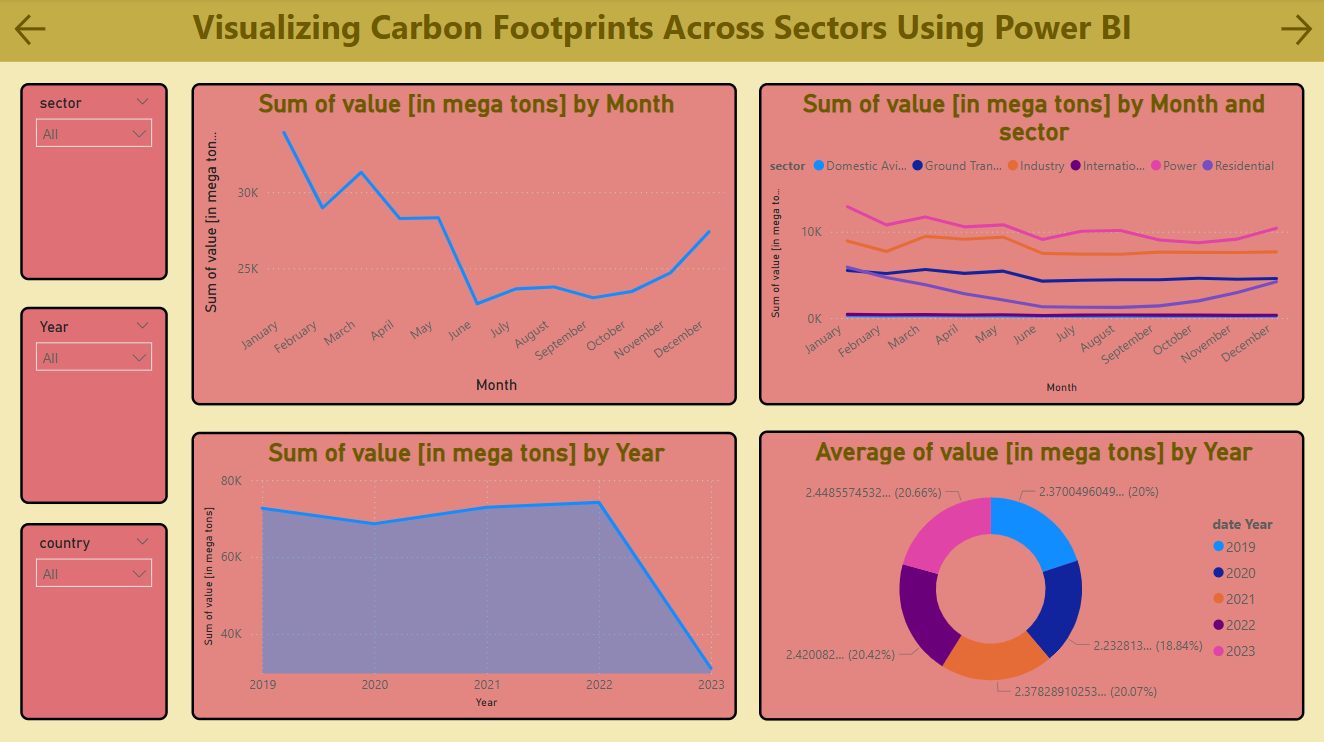

The dashboard page shown, as its layout file describes it:
{"tool":"powerbi","page":{"name":"Page 2","canvas":[1280,720],"ordinal":1},"visuals":[{"type":"textbox","box":[0,0,1280.3,61.7],"z":0},{"type":"lineChart","fields":{"Y":["Sum(80881fd3222431095135.value [in mega tons])"],"Category":["80881fd3222431095135.date.Variation.Date Hierarchy.Year","80881fd3222431095135.date.Variation.Date Hierarchy.Quarter","80881fd3222431095135.date.Variation.Date Hierarchy.Month","80881fd3222431095135.date.Variation.Date Hierarchy.Day"]},"box":[185.8,82,526,311.3],"z":1000},{"type":"slicer","fields":{"Values":["80881fd3222431095135.Year"]},"box":[20.5,298,142.4,190.6],"z":2000},{"type":"lineChart","fields":{"Y":["Sum(80881fd3222431095135.value [in mega tons])"],"Category":["80881fd3222431095135.date.Variation.Date Hierarchy.Year","80881fd3222431095135.date.Variation.Date Hierarchy.Quarter","80881fd3222431095135.date.Variation.Date Hierarchy.Month","80881fd3222431095135.date.Variation.Date Hierarchy.Day"],"Series":["80881fd3222431095135.sector"]},"box":[733.5,82,526,311.3],"z":3000},{"type":"slicer","fields":{"Values":["80881fd3222431095135.sector"]},"box":[20.5,82,142.4,190.6],"z":4000},{"type":"stackedAreaChart","fields":{"Category":["80881fd3222431095135.date.Variation.Date Hierarchy.Year","80881fd3222431095135.date.Variation.Date Hierarchy.Quarter","80881fd3222431095135.date.Variation.Date Hierarchy.Month","80881fd3222431095135.date.Variation.Date Hierarchy.Day"],"Y":["Sum(80881fd3222431095135.value [in mega tons])"]},"box":[185.8,418.6,526,278.7],"z":5000},{"type":"slicer","fields":{"Values":["80881fd3222431095135.country"]},"box":[20.5,506.7,142.4,190.6],"z":6000},{"type":"donutChart","fields":{"Y":["Avg(80881fd3222431095135.value [in mega tons])"],"Category":["80881fd3222431095135.date.Variation.Date Hierarchy.Year"]},"box":[733.5,417.4,526,279.9],"z":7000},{"type":"actionButton","box":[10.9,10.9,42.2,39.8],"z":8000},{"type":"actionButton","box":[1231.8,10.9,39.8,39.8],"z":9000}]}

Visuals, with their boxes in screenshot pixels (x1, y1, x2, y2), scaled from the page's 1280x720 canvas onto the 1324x742 screenshot:
textbox: {"left": 0, "top": 0, "right": 1323, "bottom": 64}
lineChart - Sum(80881fd3222431095135.value [in mega tons]) x 80881fd3222431095135.date.Variation.Date Hierarchy.Year: {"left": 192, "top": 85, "right": 736, "bottom": 405}
slicer - 80881fd3222431095135.Year: {"left": 21, "top": 307, "right": 168, "bottom": 504}
lineChart - Sum(80881fd3222431095135.value [in mega tons]) x 80881fd3222431095135.date.Variation.Date Hierarchy.Year: {"left": 759, "top": 85, "right": 1303, "bottom": 405}
slicer - 80881fd3222431095135.sector: {"left": 21, "top": 85, "right": 168, "bottom": 281}
stackedAreaChart - 80881fd3222431095135.date.Variation.Date Hierarchy.Year x 80881fd3222431095135.date.Variation.Date Hierarchy.Quarter: {"left": 192, "top": 431, "right": 736, "bottom": 719}
slicer - 80881fd3222431095135.country: {"left": 21, "top": 522, "right": 168, "bottom": 719}
donutChart - Avg(80881fd3222431095135.value [in mega tons]) x 80881fd3222431095135.date.Variation.Date Hierarchy.Year: {"left": 759, "top": 430, "right": 1303, "bottom": 719}
actionButton: {"left": 11, "top": 11, "right": 55, "bottom": 52}
actionButton: {"left": 1274, "top": 11, "right": 1315, "bottom": 52}
